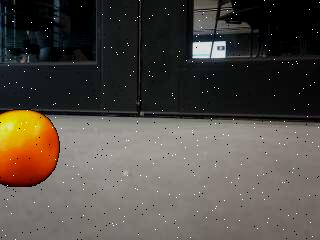Orange: (0, 107, 60, 188)
